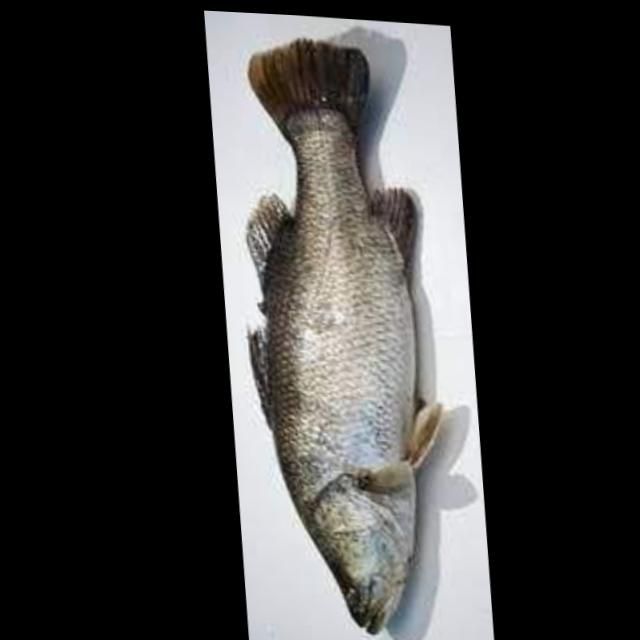Seabass: (213, 36, 469, 640)
